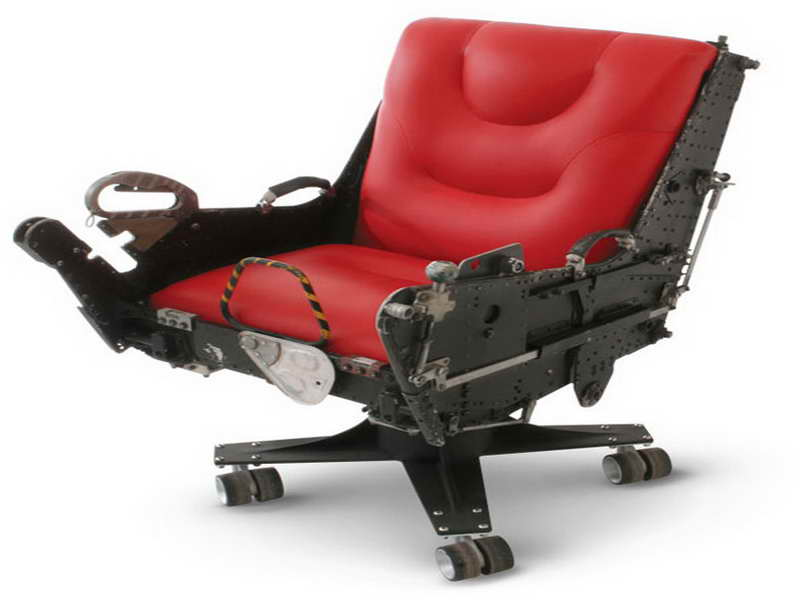chairs: (26, 13, 758, 586)
